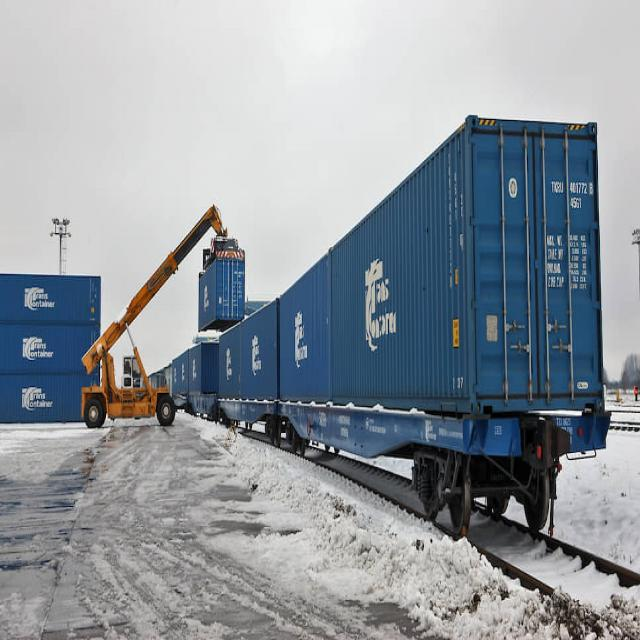cargo: (78, 206, 212, 431)
container: (332, 109, 606, 404), (279, 245, 332, 402), (0, 272, 103, 326), (0, 373, 103, 426), (0, 323, 100, 373), (241, 294, 280, 400), (197, 257, 245, 334), (187, 341, 219, 397)
flatcar: (278, 400, 613, 544), (217, 400, 278, 442)
